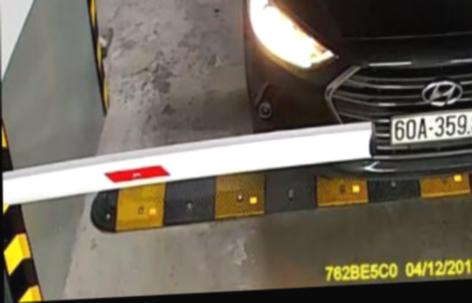License_Plate: (389, 108, 472, 149)
